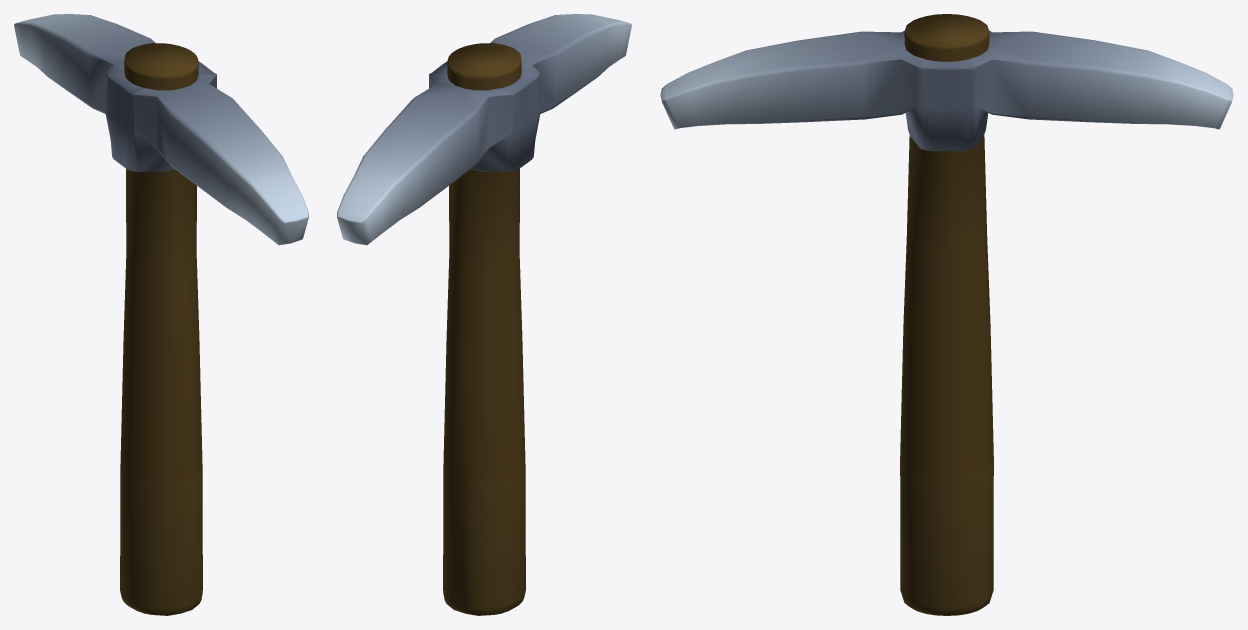
Rendered from pickaxe2.fbx.
3 views of the same model, side by side, from view 1: azimuth 30°, elevation 25°; view 2: azimuth 150°, elevation 25°; view 3: azimuth 270°, elevation 25° (orthographic). The views are drawn at different scales.
Visible parts, largest first — view 1: Pickaxe.001; view 2: Pickaxe.001; view 3: Pickaxe.001.
Part boxes in pixels (bbox=[...]): Pickaxe.001: bbox=[14, 14, 308, 615]; Pickaxe.001: bbox=[337, 14, 631, 615]; Pickaxe.001: bbox=[660, 14, 1233, 615].
Bounding box in the file's own units: 0.2299 × 1.43 × 1.29.
